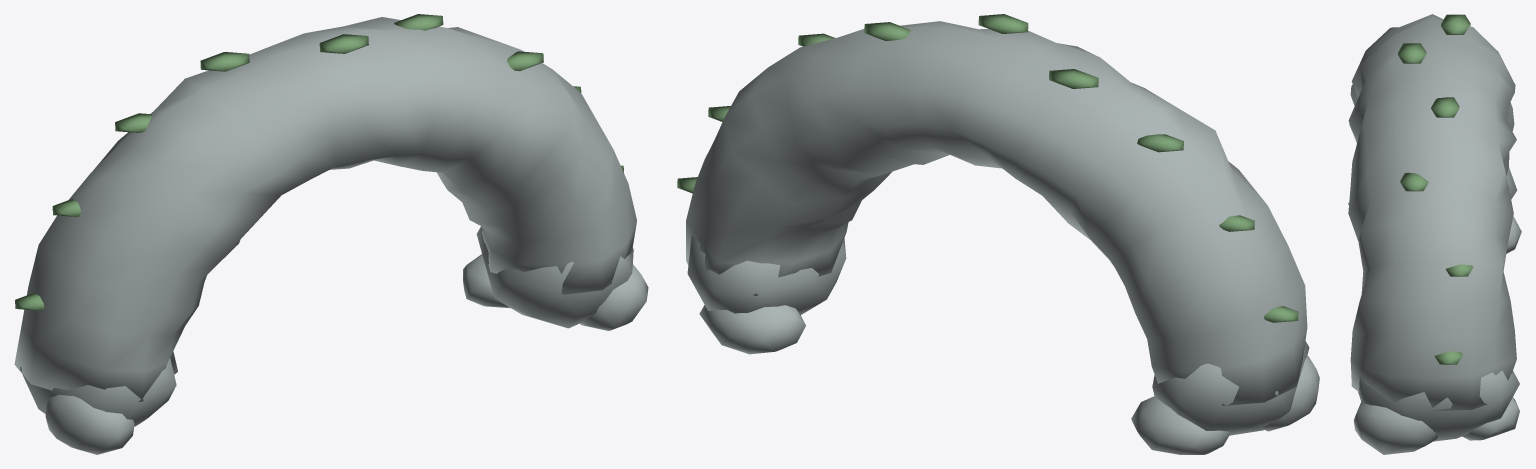
The model's file is rock_arch.glb.
The picture shows the model from 3 angles, left to right: view 1: azimuth 30°, elevation 25°; view 2: azimuth 150°, elevation 25°; view 3: azimuth 270°, elevation 25°; orthographic projection. The views are drawn at different scales.
Parts seen in each view (by area): view 1: rock_arch_Stone, rock_arch_Leaf; view 2: rock_arch_Stone, rock_arch_Leaf; view 3: rock_arch_Stone, rock_arch_Leaf.
Boxes of the visible parts, <box> form: rock_arch_Stone: <box>14,17,648,454</box>; rock_arch_Leaf: <box>15,14,623,310</box>; rock_arch_Stone: <box>686,21,1319,454</box>; rock_arch_Leaf: <box>677,14,1298,322</box>; rock_arch_Stone: <box>1348,14,1521,454</box>; rock_arch_Leaf: <box>1398,14,1473,364</box>.
Size of the model in its own units: 29.34 by 15.82 by 8.35.
